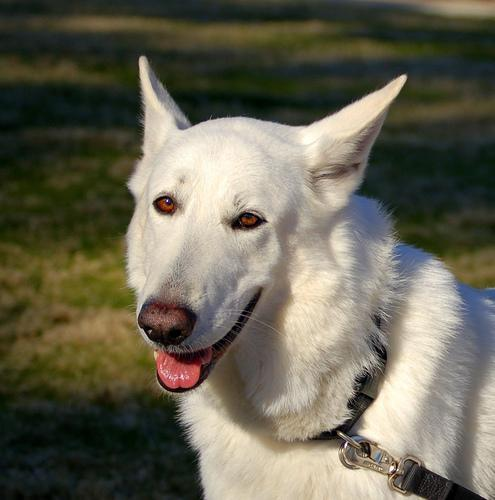German_shepherd: (123, 53, 493, 497)
